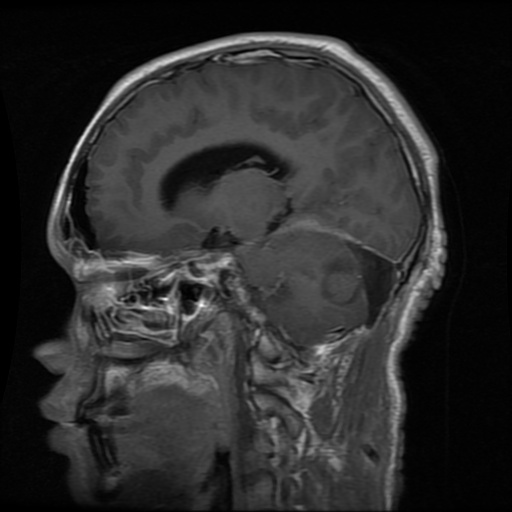glioma: (345, 239, 392, 325)
